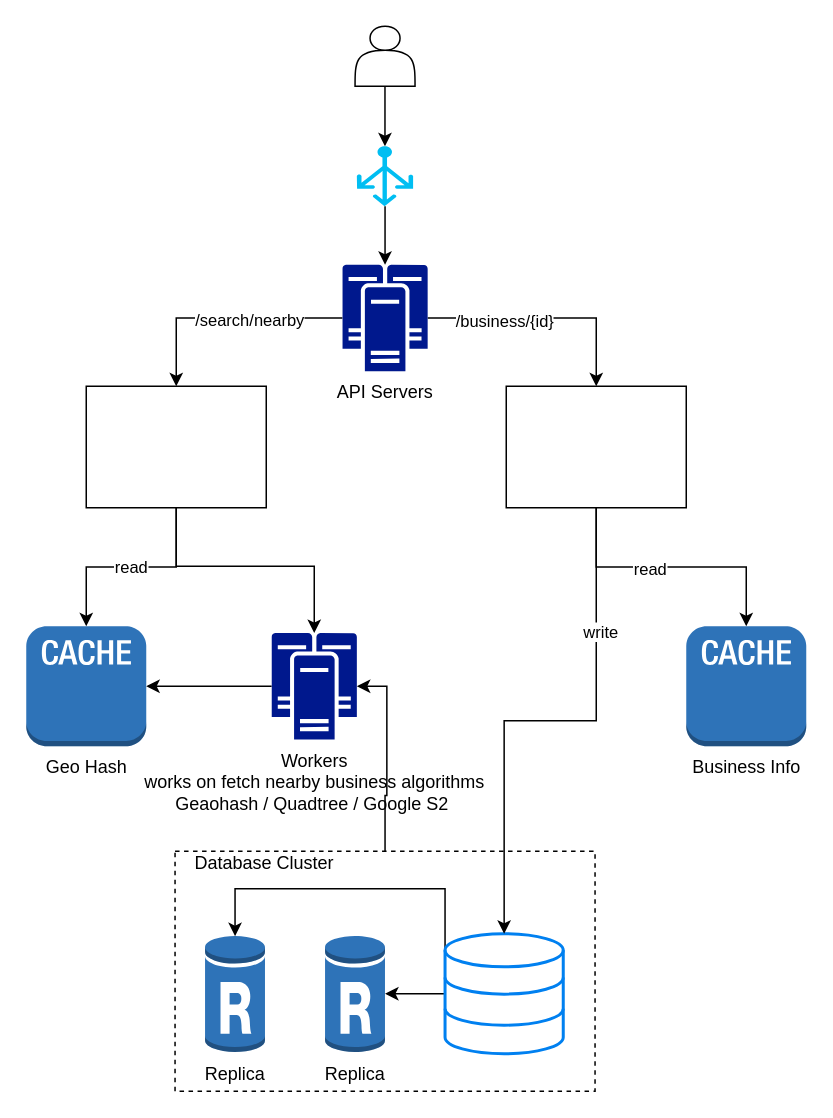
Some shapes in this 833 by 1118 pixel diagram are drawn without their labels. Each missing label, with the centre of its shape:
"Business Service" belongs at (x=595, y=446).
"Location Based Service" belongs at (x=175, y=446).
"Primary" belongs at (x=503, y=993).
